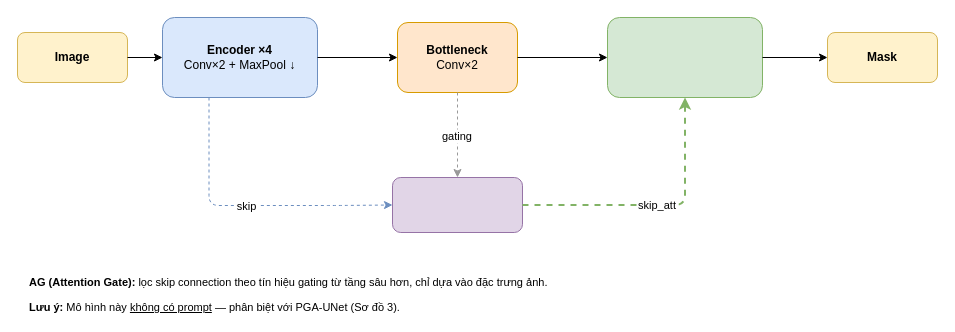
The diagram is 955 pixels wide and 332 high, and some of its shapes have lost their labels. Each missing label, with the centre of its shape:
AG ×4 Attention Gate: (457,204)
Decoder ×4 ConvT ↑ + Concat + Conv×2: (684,57)
